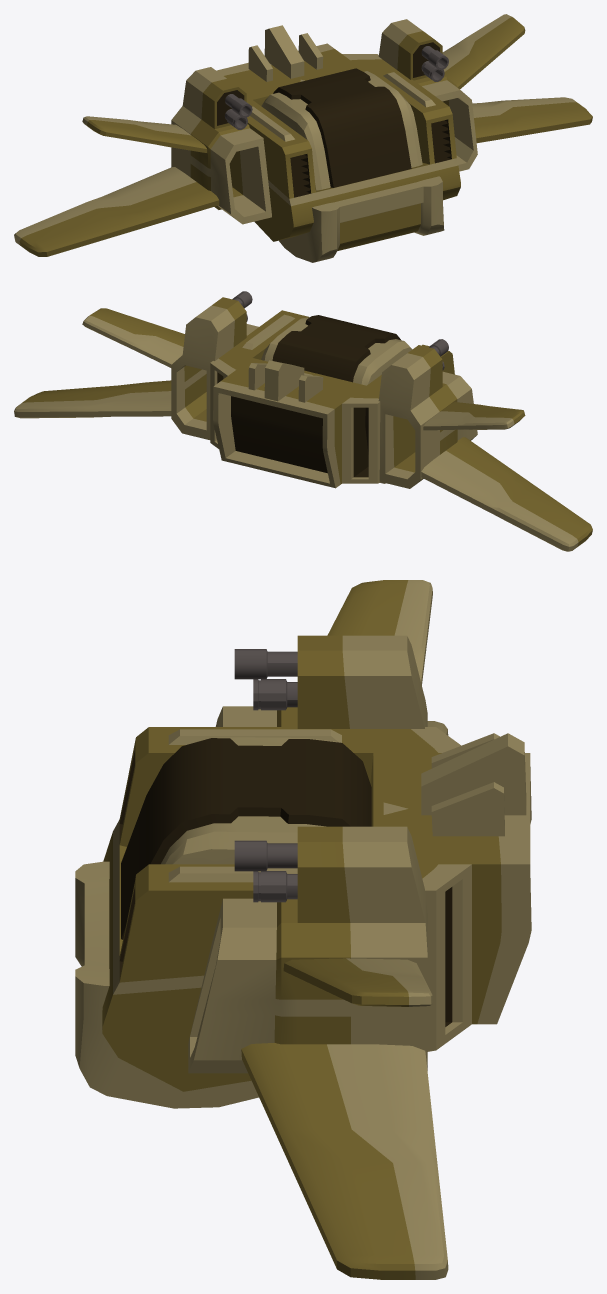
File: quaternius-ultimate-space-spaceship-finn-the-frog-transformed.glb
The picture shows the model from 3 angles, top to bottom: view 1: azimuth 30°, elevation 25°; view 2: azimuth 150°, elevation 25°; view 3: azimuth 270°, elevation 25°; orthographic projection. The views are drawn at different scales.
Parts seen in each view (by area): view 1: Spaceship_FinnTheFrog; view 2: Spaceship_FinnTheFrog; view 3: Spaceship_FinnTheFrog.
Part boxes in pixels (left/top/right/bottom): Spaceship_FinnTheFrog: left=14, top=14, right=592, bottom=262; Spaceship_FinnTheFrog: left=14, top=291, right=592, bottom=551; Spaceship_FinnTheFrog: left=75, top=580, right=531, bottom=1279.
Bounding box in the file's own units: 11.62 × 3.06 × 4.11.
Materials: 1 (1 with a texture image).
